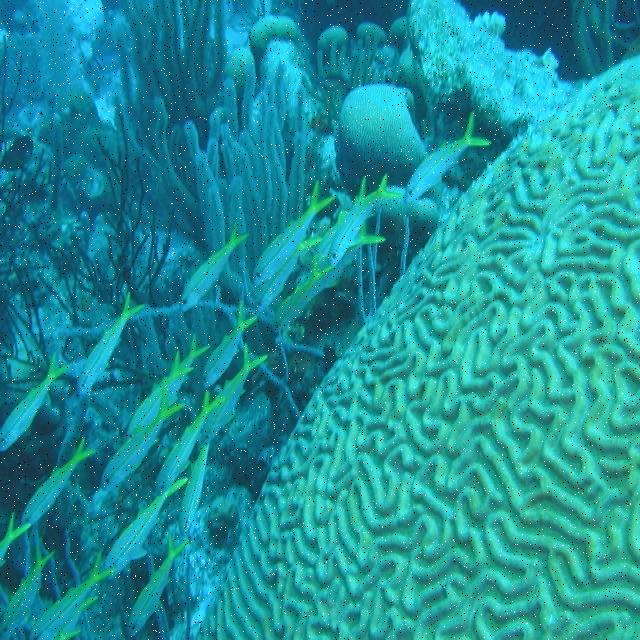aquatic plants: (58, 115, 177, 306)
fish: (254, 178, 338, 284), (102, 388, 186, 494), (103, 479, 192, 579), (407, 108, 491, 205), (0, 356, 77, 453), (76, 294, 147, 397), (20, 437, 98, 529), (155, 395, 228, 493), (329, 174, 401, 268), (181, 219, 252, 313), (130, 538, 191, 636), (202, 294, 256, 394), (178, 445, 211, 537)
reefs: (196, 62, 639, 639), (98, 0, 308, 265), (333, 85, 431, 197)
